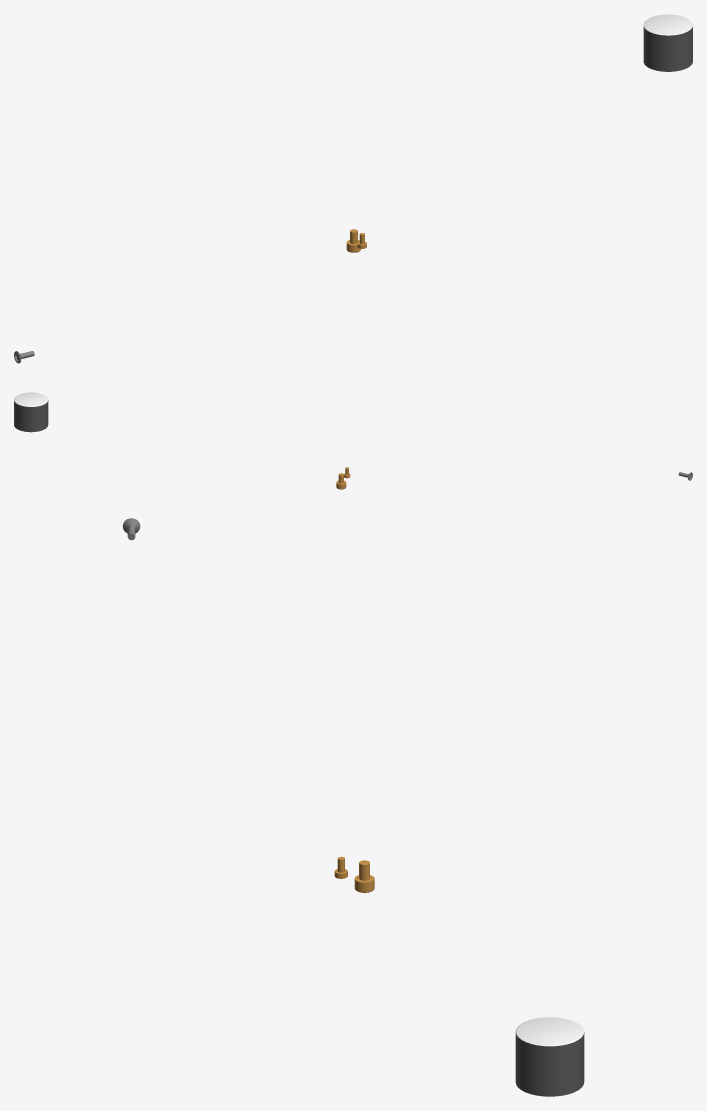
Rendered from common.glb.
3 views of the same model, one above another, from view 1: azimuth 30°, elevation 25°; view 2: azimuth 150°, elevation 25°; view 3: azimuth 270°, elevation 25° (orthographic). The views are drawn at different scales.
Visible parts, largest first — view 1: knobCap; view 2: knobCap; view 3: knobCap.
Boxes of the visible parts, left/top/right/bottom form: knobCap: left=643, top=14, right=692, bottom=71; knobCap: left=14, top=392, right=48, bottom=432; knobCap: left=515, top=1017, right=584, bottom=1096.
Size of the model in its own units: 31.36 by 3.03 by 10.99.
